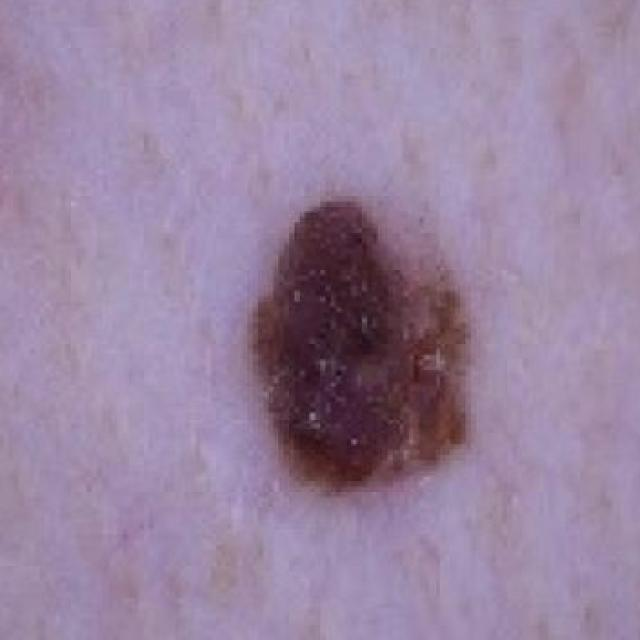BKL: (238, 187, 504, 541)
